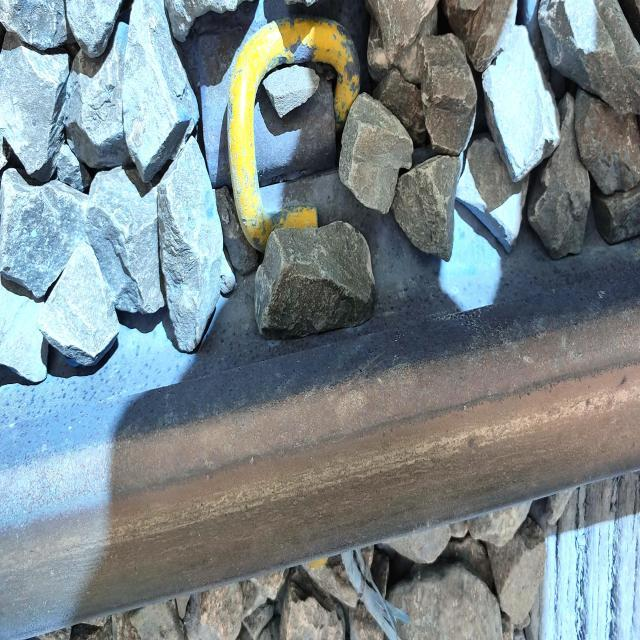Good Fasteners: (192, 5, 376, 267)
